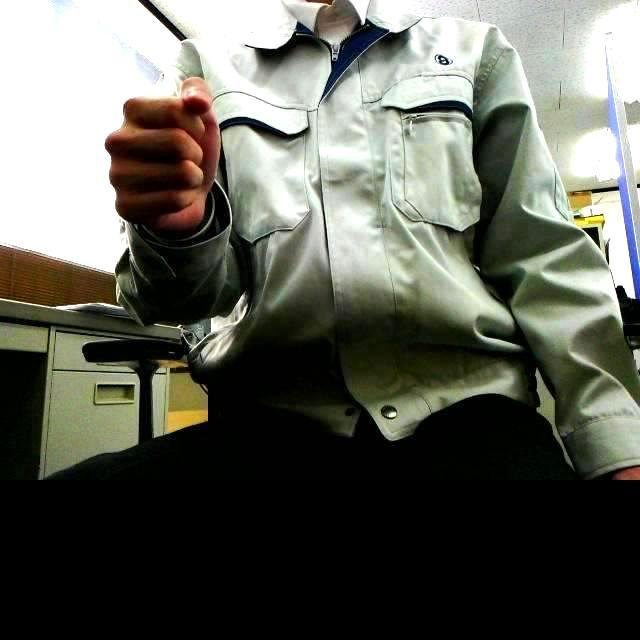gu-: (104, 77, 222, 225)
